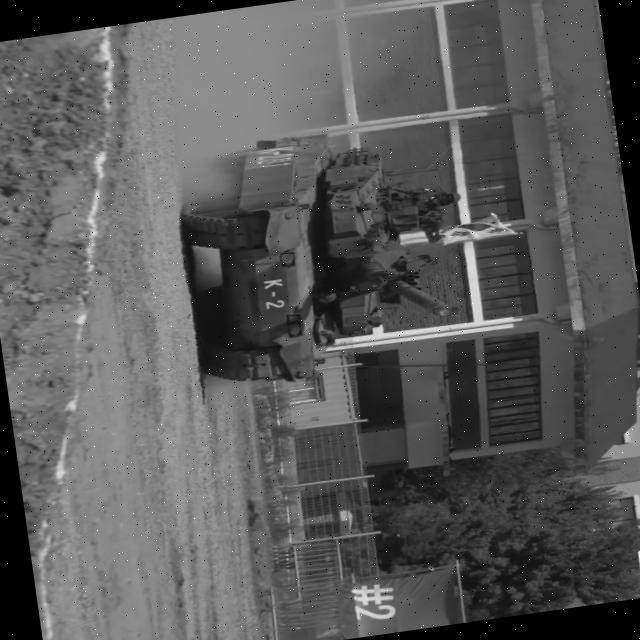korea tank: (168, 113, 485, 394)
